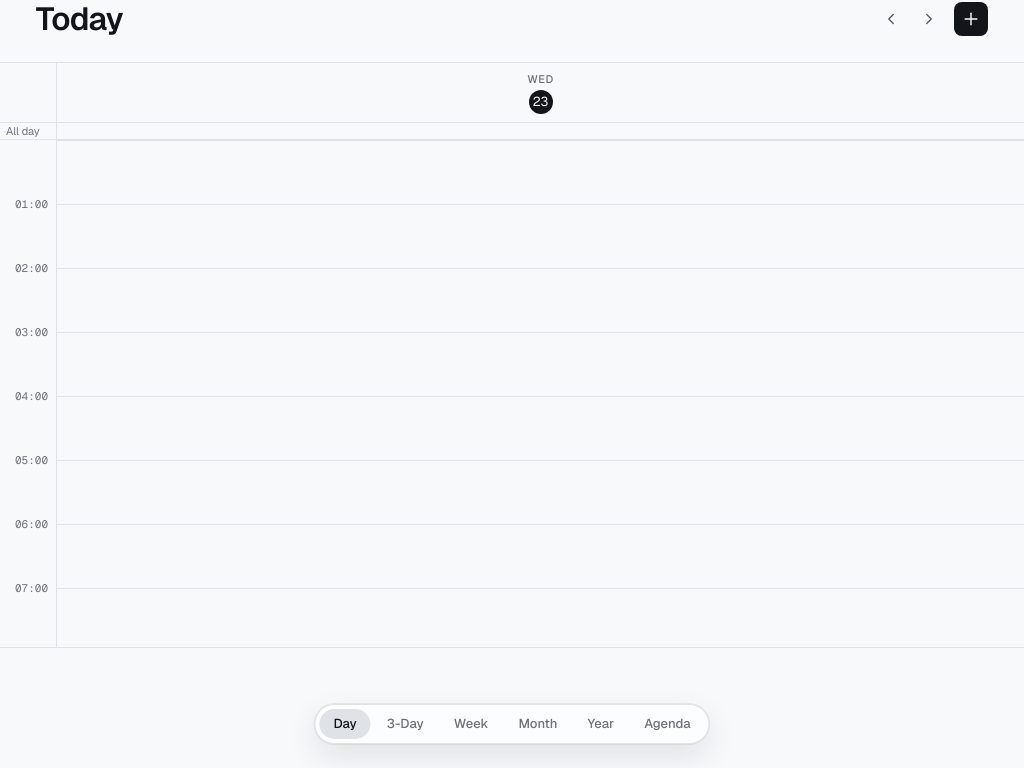
it: CalendarBoard jump picker › in Month view the title opens a picker that jumps to any month and year
The width and height of the screenshot is (1024, 768).
Click the tab "Month": (538, 724) 504,709 -> 571,739
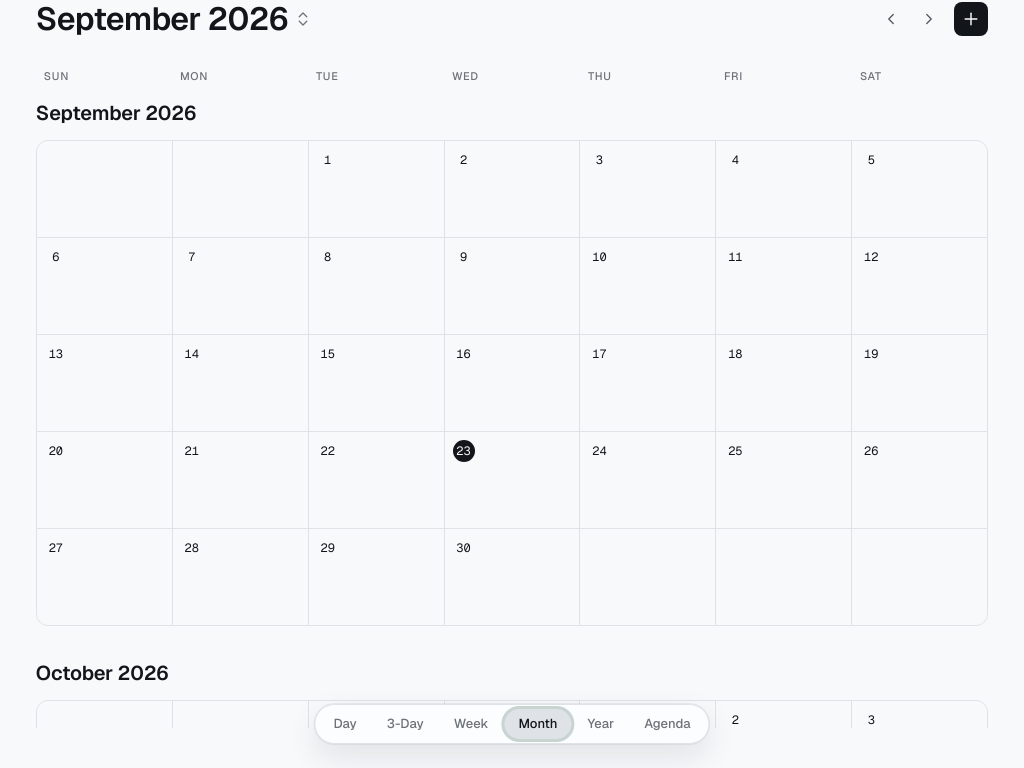
Click the button "September 2026": (174, 19) 36,0 -> 312,38
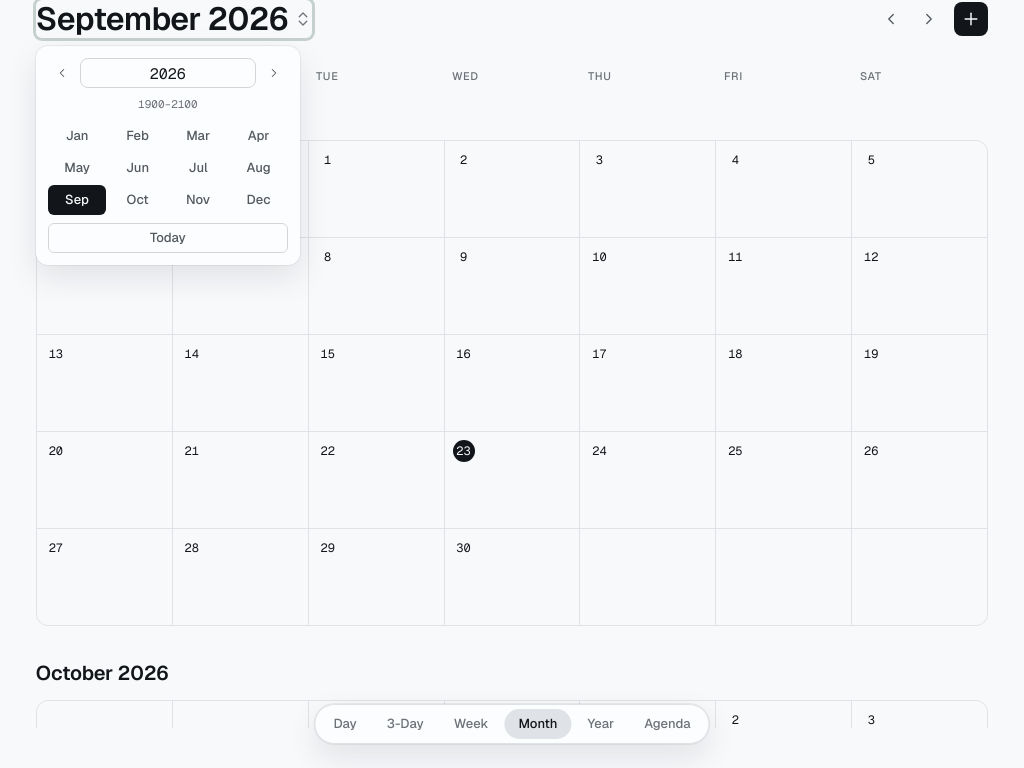
Replace the text in the field named "Year" with "2030": (168, 73) 80,58 -> 256,88
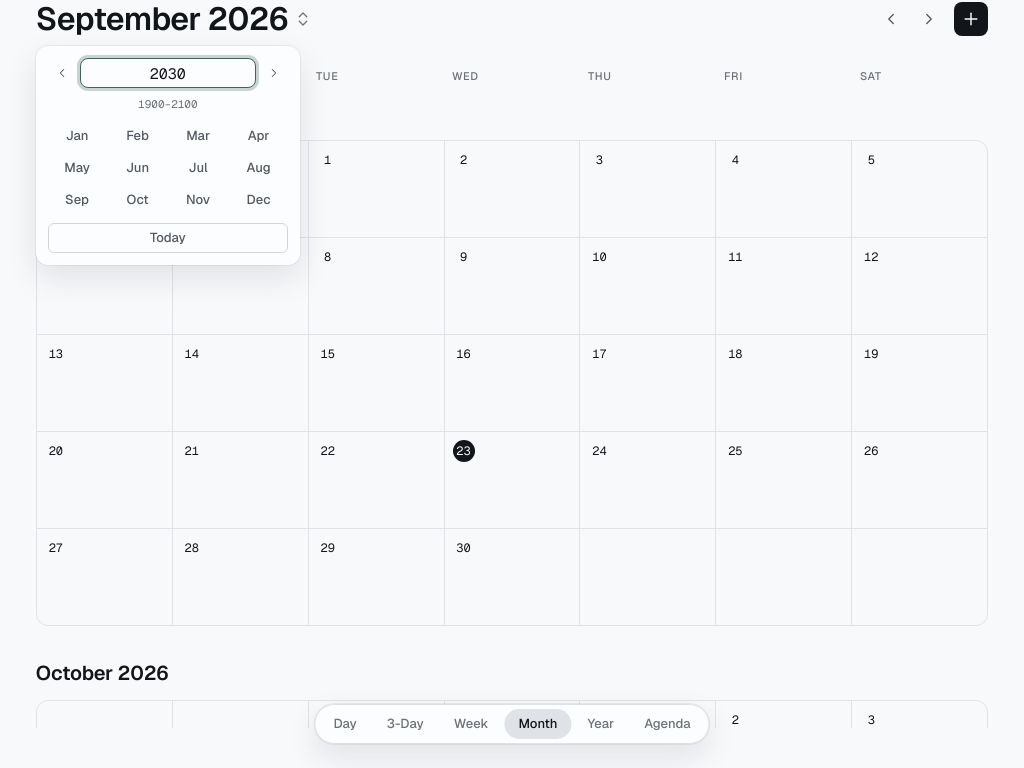
Click the button "Feb": (138, 136) 108,121 -> 167,151
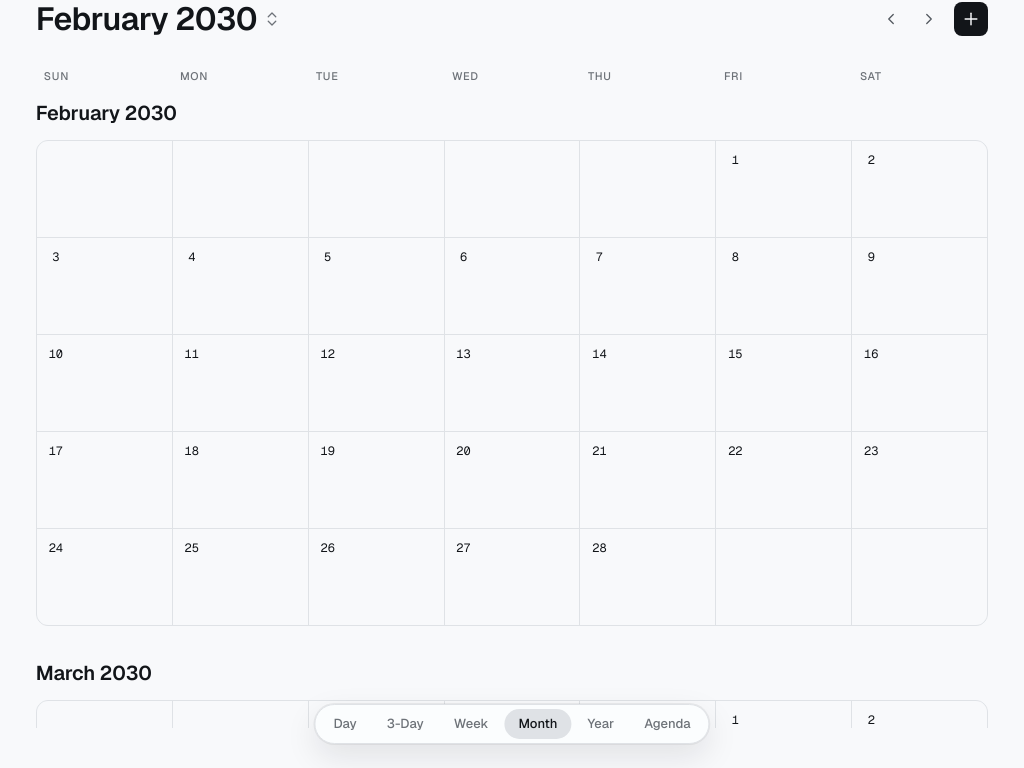
Expected: the button "February 2030" is shown, 36,0 -> 281,38
